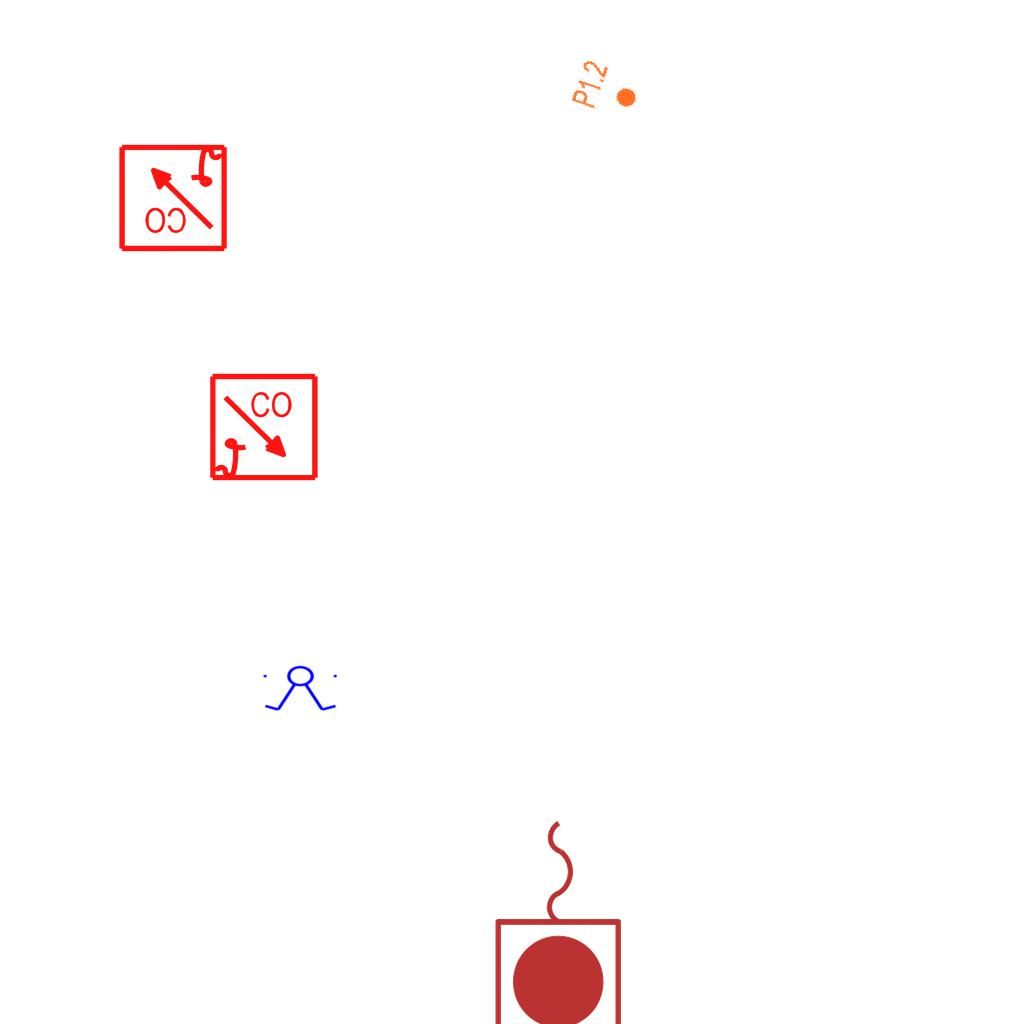Downlight_LED_Einbauleuchten_Flur: (569, 57, 645, 123)
ROA_Rauchmelder_optisch_mit_Signalgeber_(Sockelsirene): (208, 372, 321, 485), (116, 140, 229, 253)
Serienschalter: (259, 665, 343, 713)
Zugtaster: (488, 810, 632, 1024)
